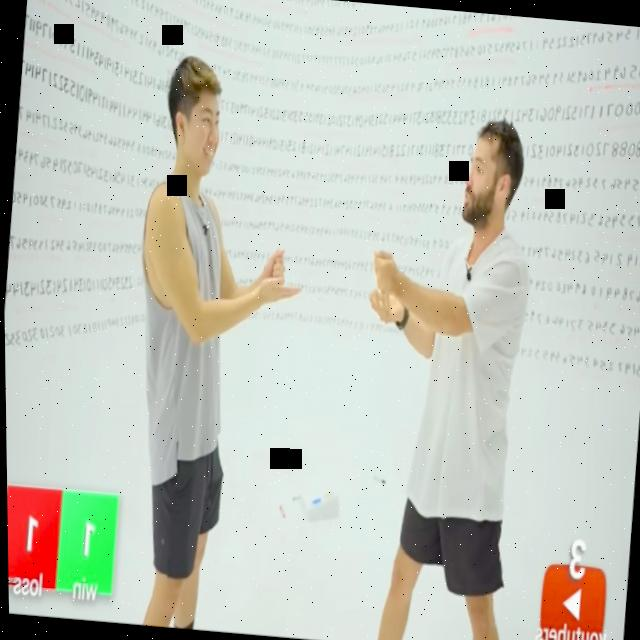Rock: (368, 247, 399, 300), (264, 246, 287, 281)
